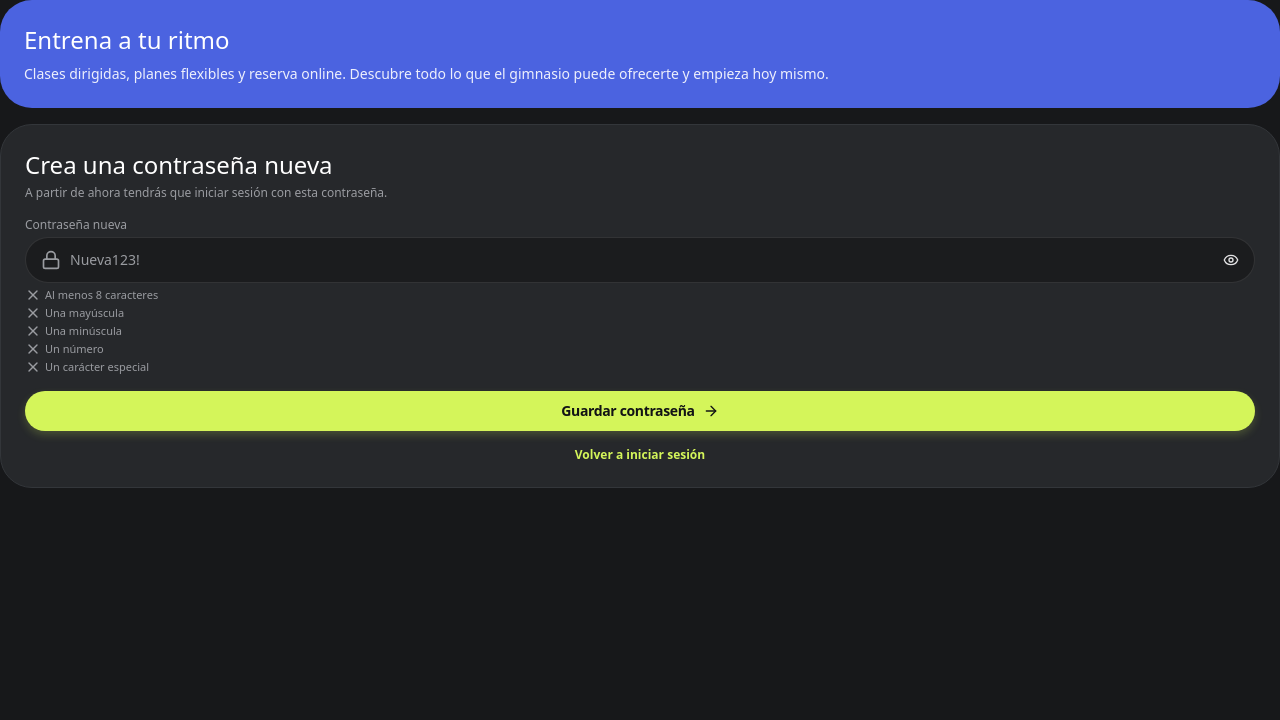
it: ResetPasswordPage › mete el mensaje de la regla bajo el campo con 422
Type "corta" into the password field labelled "Contraseña nueva" at (640, 260), box [25, 237, 1255, 283]
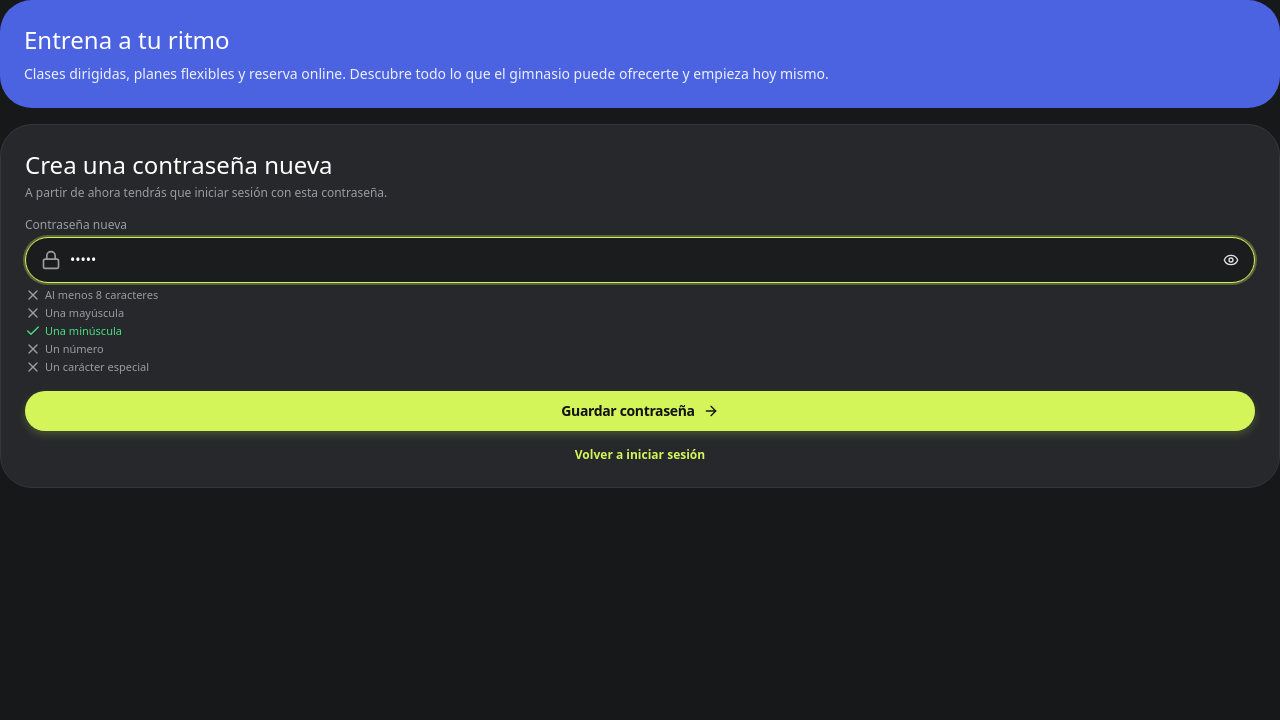
Click the button "Guardar contraseña" at (640, 411), box [25, 391, 1255, 431]
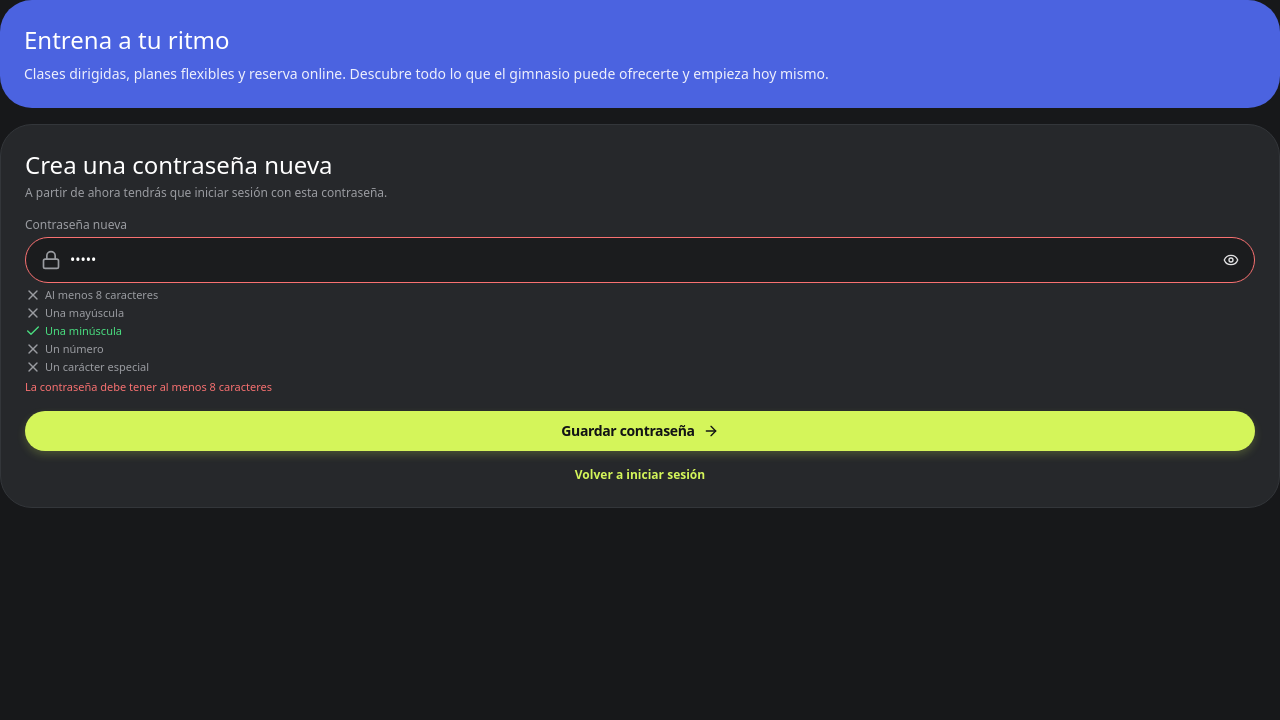
expect the text "La contraseña debe tener al menos 8 caracteres" is shown: met, box [25, 379, 272, 394]
